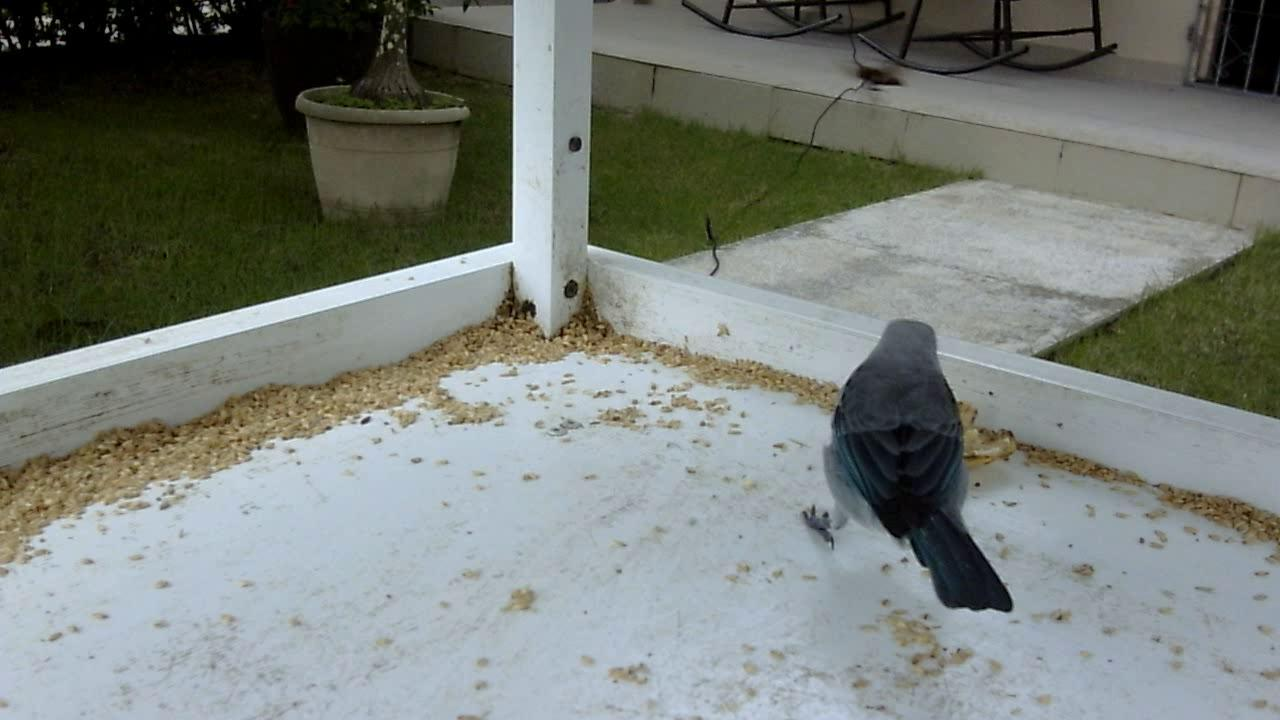sanhaco_da_amazonia: (791, 311, 1021, 628)
